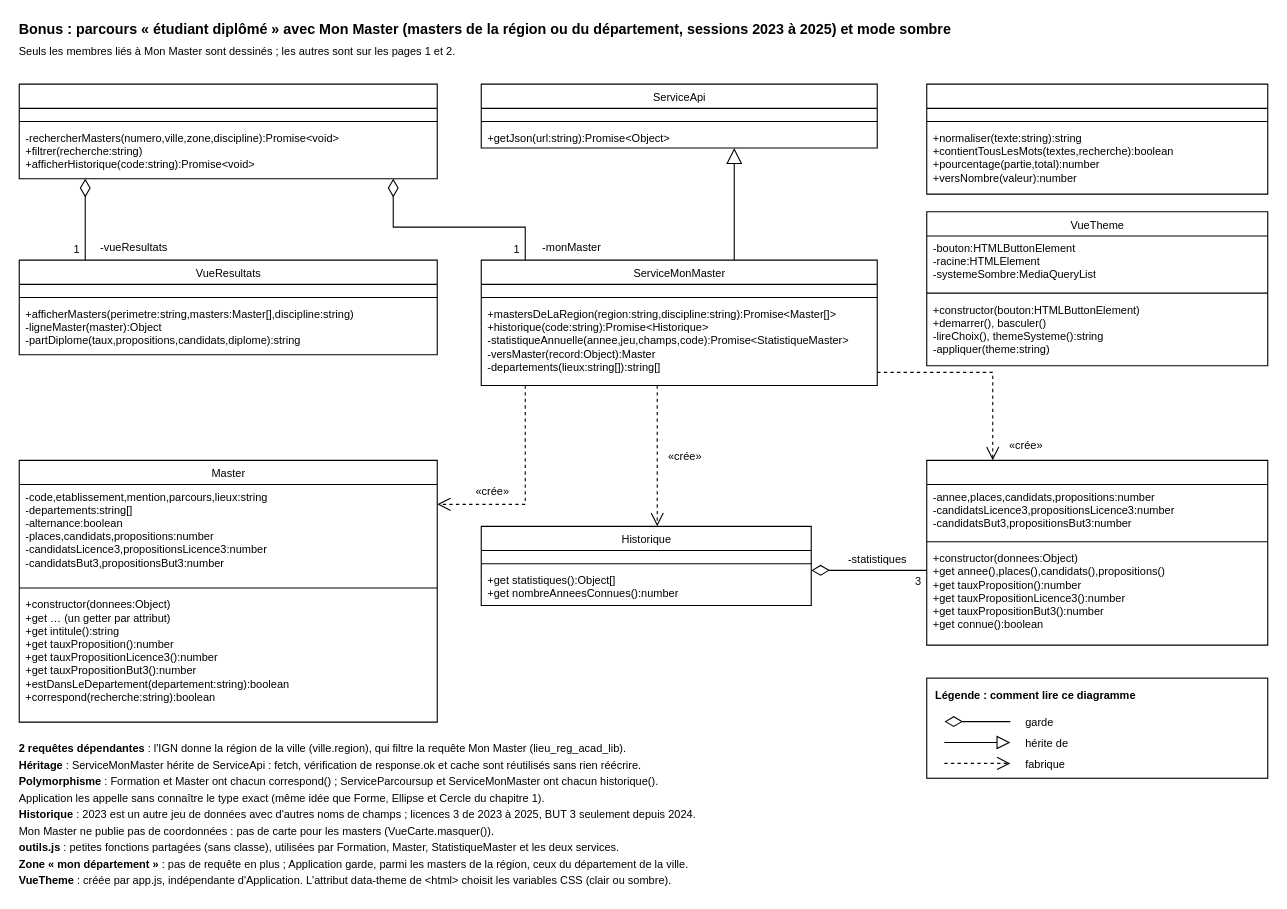
This 1287x909 diagram has some shape labels left out. The shapes that lost their labels are listed below. From the top down, each one's box as (x1, y1, x2, y2) in pixels, then its label:
(18, 83, 437, 179): Application
(926, 83, 1268, 194): «module» outils.js
(926, 459, 1268, 645): StatistiqueMaster
